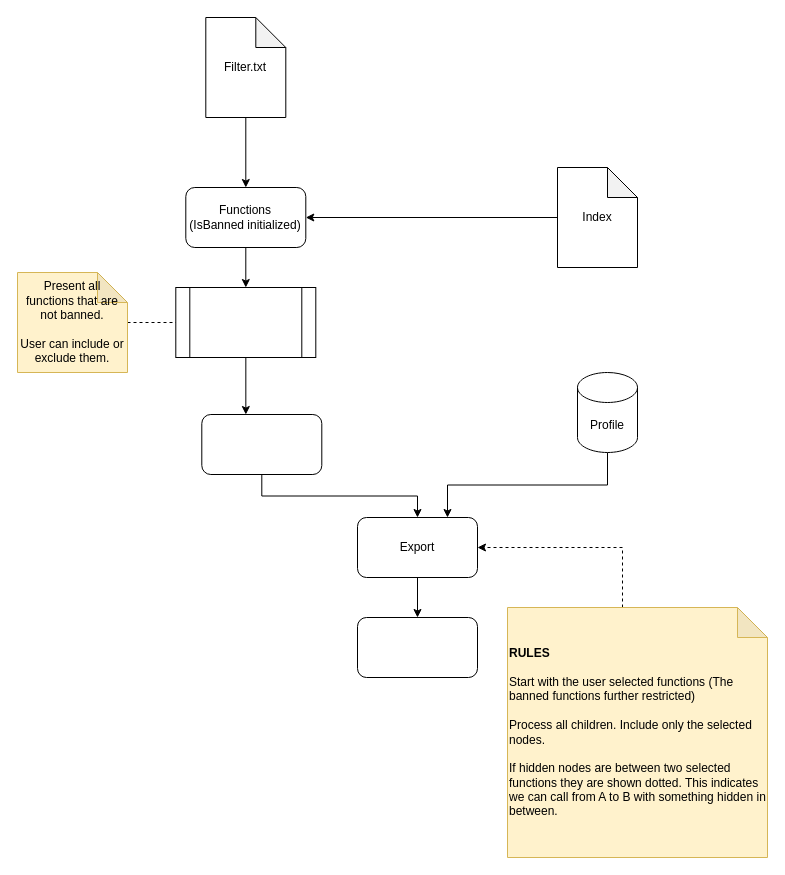
The diagram is 785 pixels wide and 875 high, and some of its shapes have lost their labels. Each missing label, with the centre of its shape:
"Dgml" goes at [417,647].
"FunctionInfo (All start functions)" goes at [261,444].
"Select included functions in call graph" goes at [245,322].
